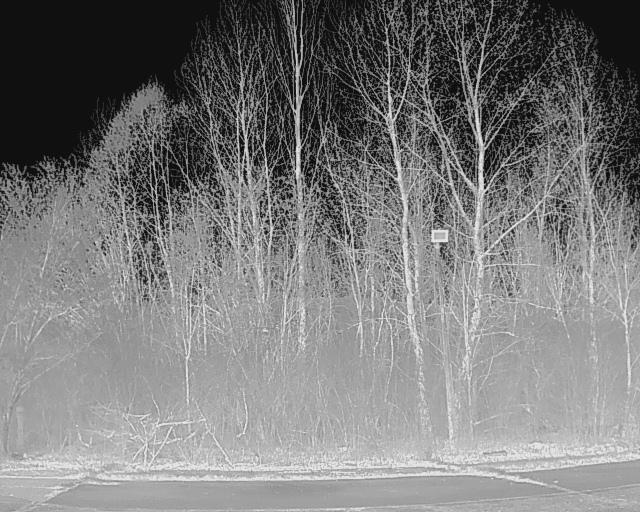drone: (245, 310, 284, 346)
